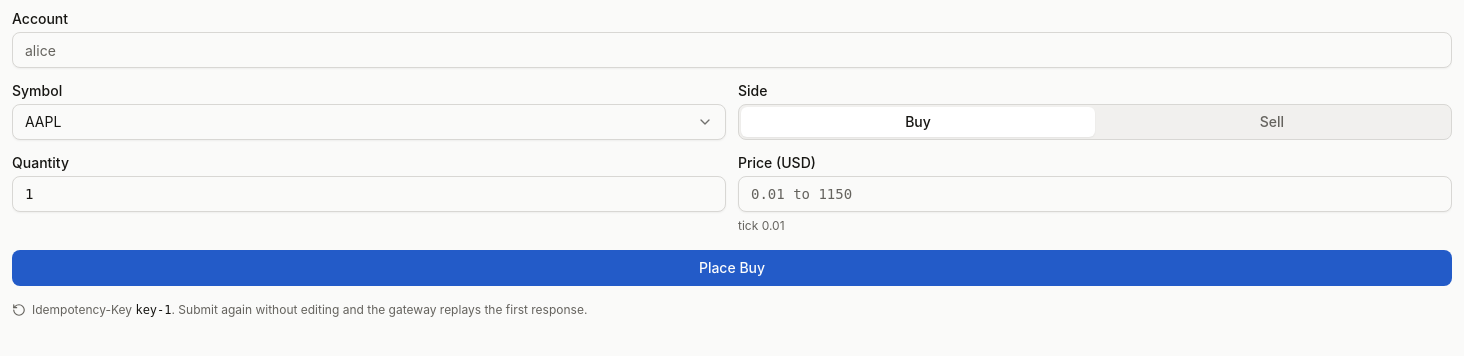
Scenario: OrderForm › shows field errors instead of sending an invalid order
Type "Alice!" into the field labelled "Account". click: (732, 50)
box: top-left (12, 32), bottom-right (1452, 68)
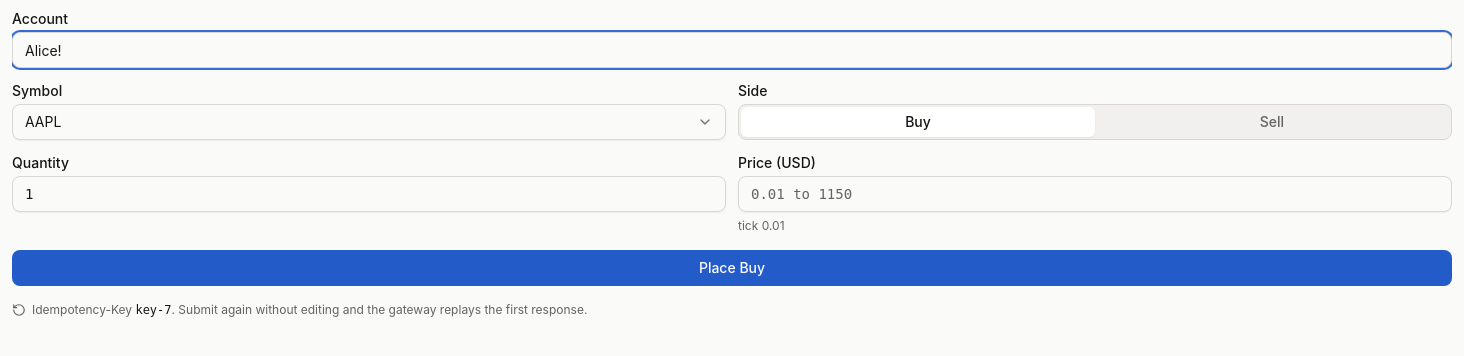
Click the button "Place buy". click: (732, 268)
box: top-left (12, 250), bottom-right (1452, 286)
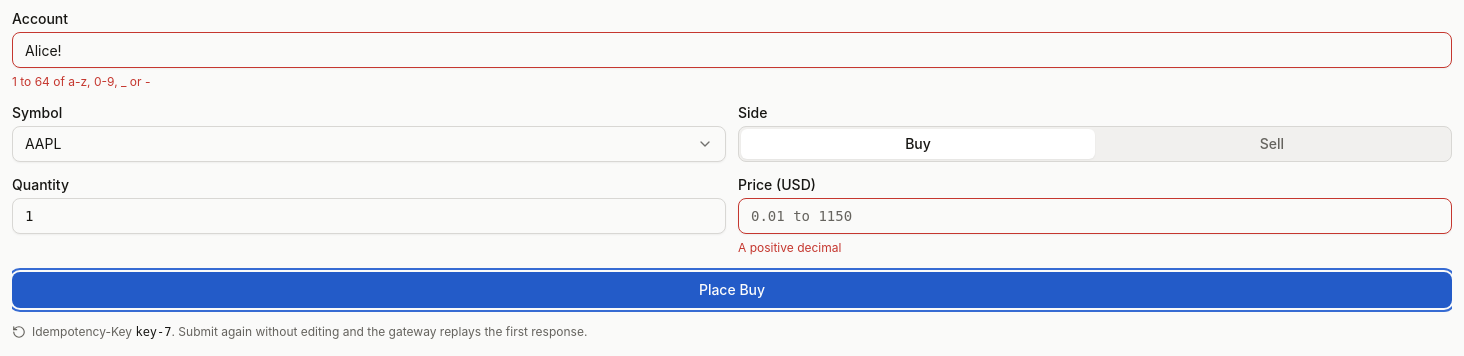
Now the text "1 to 64 of a-z, 0-9, _ or -" is shown, box top-left (12, 74), bottom-right (150, 89)
Now the text "A positive decimal" is shown, box top-left (738, 240), bottom-right (841, 255)
